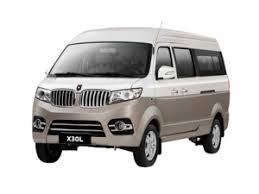van: (25, 22, 238, 165)
